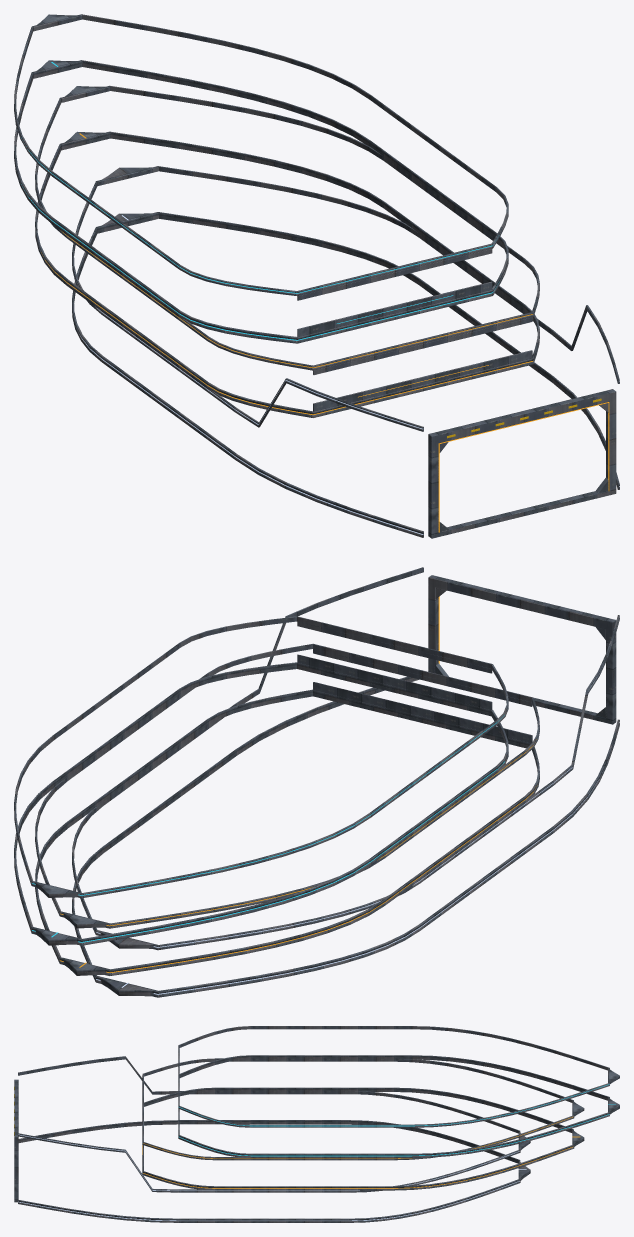
File: arch_hull_fascia.glb
The picture shows the model from 3 angles, top to bottom: view 1: azimuth 30°, elevation 25°; view 2: azimuth 150°, elevation 25°; view 3: azimuth 270°, elevation 25°; orthographic projection. The views are drawn at different scales.
Visible parts, largest first — view 1: fascia_deck1, fascia_deck2, fascia_deck3, hangar_frame, transom_deck2, transom_deck1, stem_deck3, stem_deck1, stem_deck2; view 2: fascia_deck1, fascia_deck2, fascia_deck3, hangar_frame, transom_deck2, transom_deck1, stem_deck3, stem_deck1, stem_deck2; view 3: fascia_deck3, fascia_deck1, fascia_deck2, hangar_frame.
Part boxes in pixels (x1,y1,x2,y2): fascia_deck1: (14,14,508,343); fascia_deck2: (35,85,539,417); fascia_deck3: (72,166,619,537); hangar_frame: (428,389,616,538); transom_deck2: (313,317,532,411); transom_deck1: (297,249,492,337); stem_deck3: (97,167,158,233); stem_deck1: (33,14,82,78); stem_deck2: (61,86,110,150); fascia_deck1: (14,616,508,945); fascia_deck2: (35,643,539,975); fascia_deck3: (72,567,619,997); hangar_frame: (428,575,616,724); transom_deck2: (313,649,532,743); transom_deck1: (297,621,492,709); stem_deck3: (98,930,157,996); stem_deck1: (33,881,81,945); stem_deck2: (62,911,109,975); fascia_deck3: (18,1056,520,1222); fascia_deck1: (178,1026,609,1157); fascia_deck2: (142,1058,574,1190); hangar_frame: (14,1079,18,1202).
Bounding box in the file's own units: 26.24 × 12.1 × 67.71.
5 materials, 1 textured.
